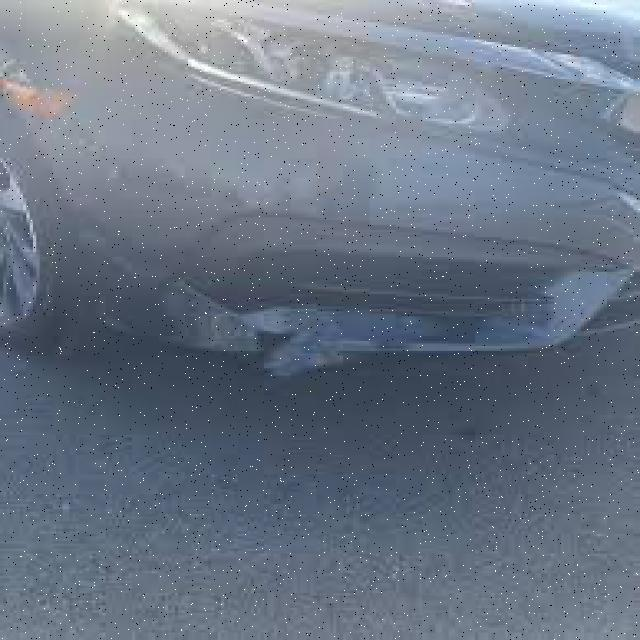front-bumper-dent: (0, 114, 637, 390)
